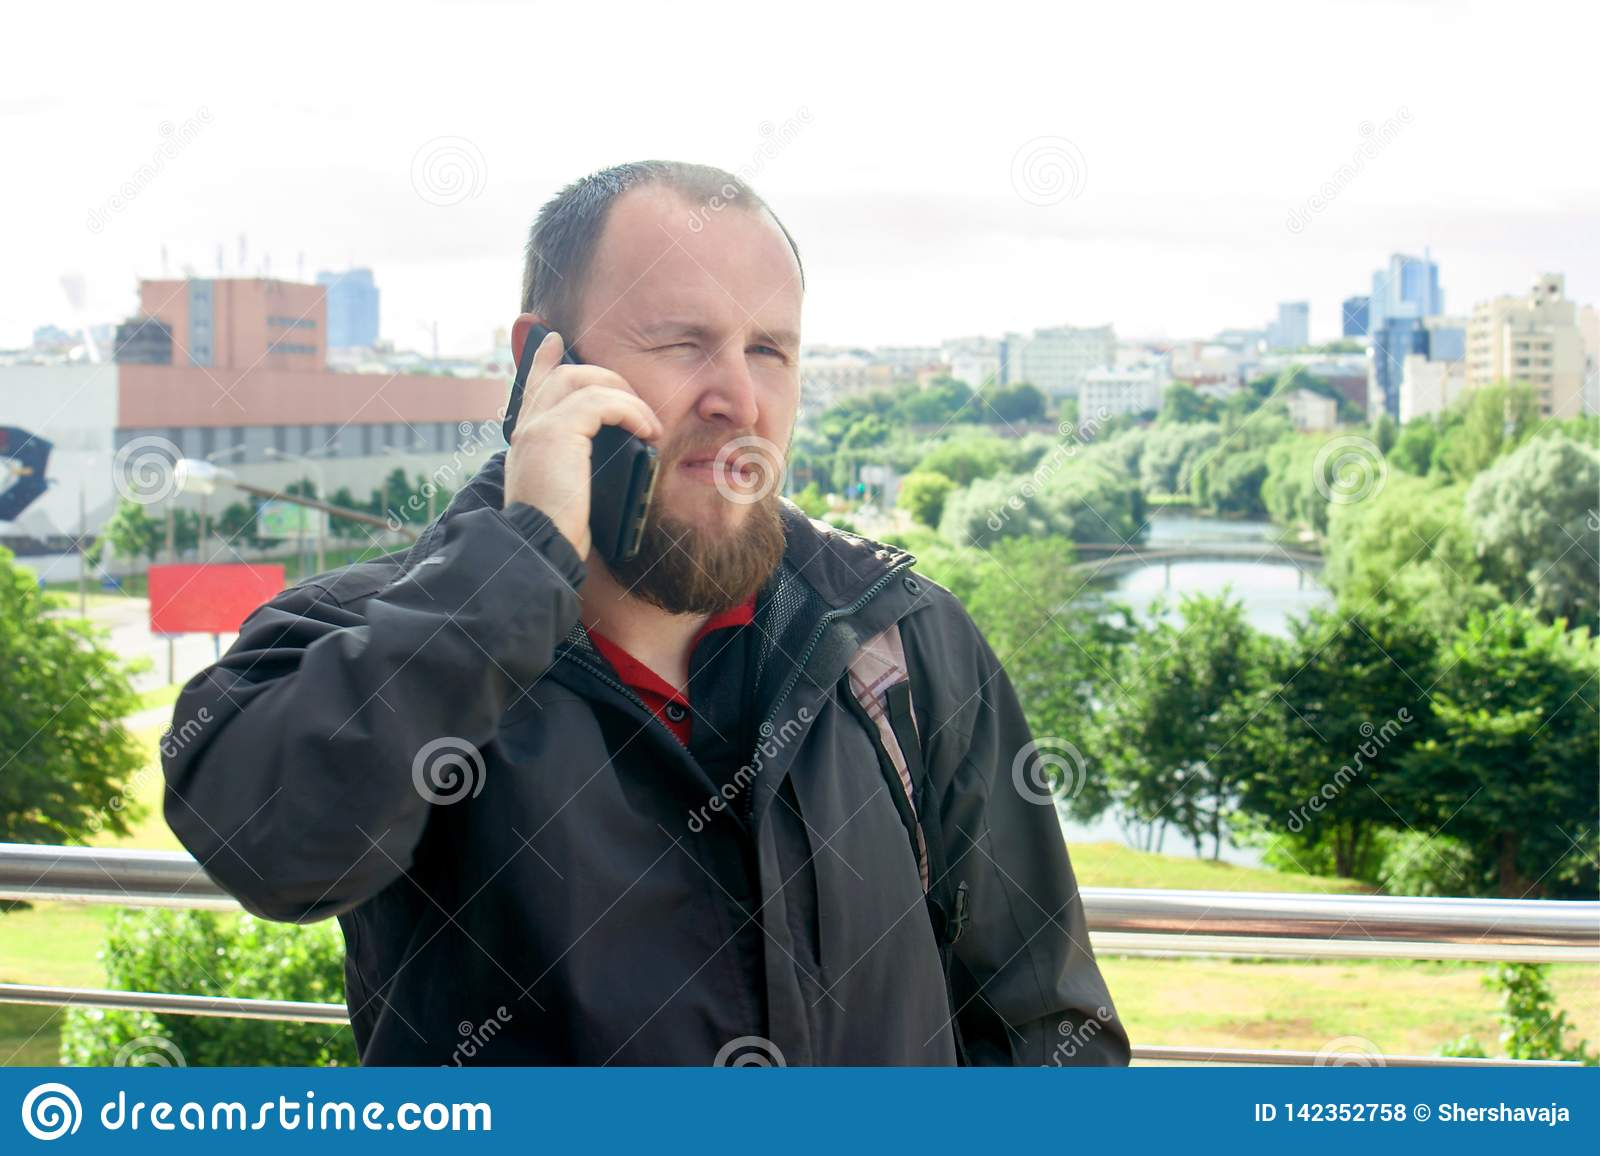phone: (503, 327, 670, 576)
talk: (501, 287, 802, 591)
